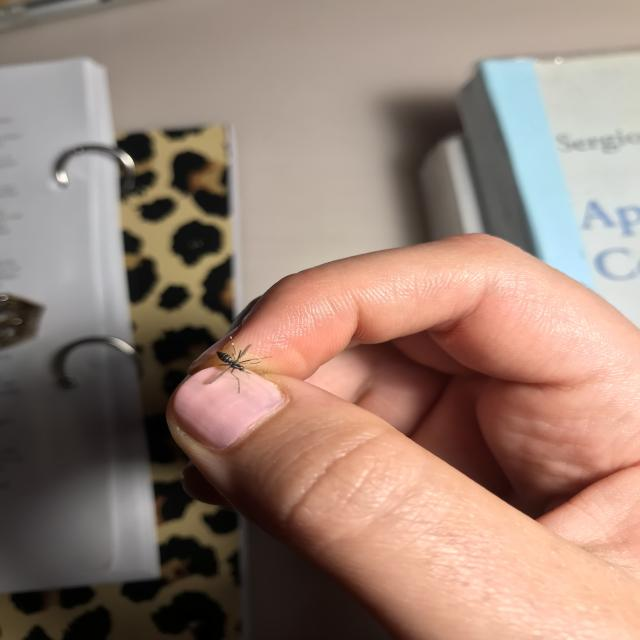albopictus: (188, 338, 281, 396)
